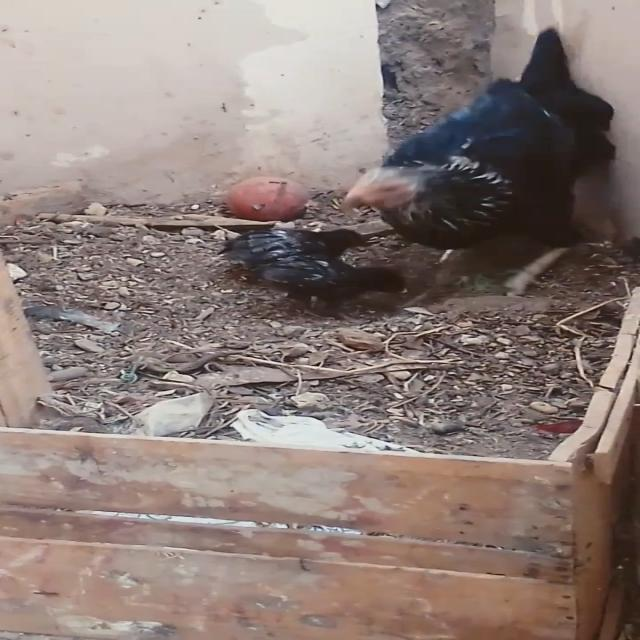stand bath: (317, 10, 640, 293)
